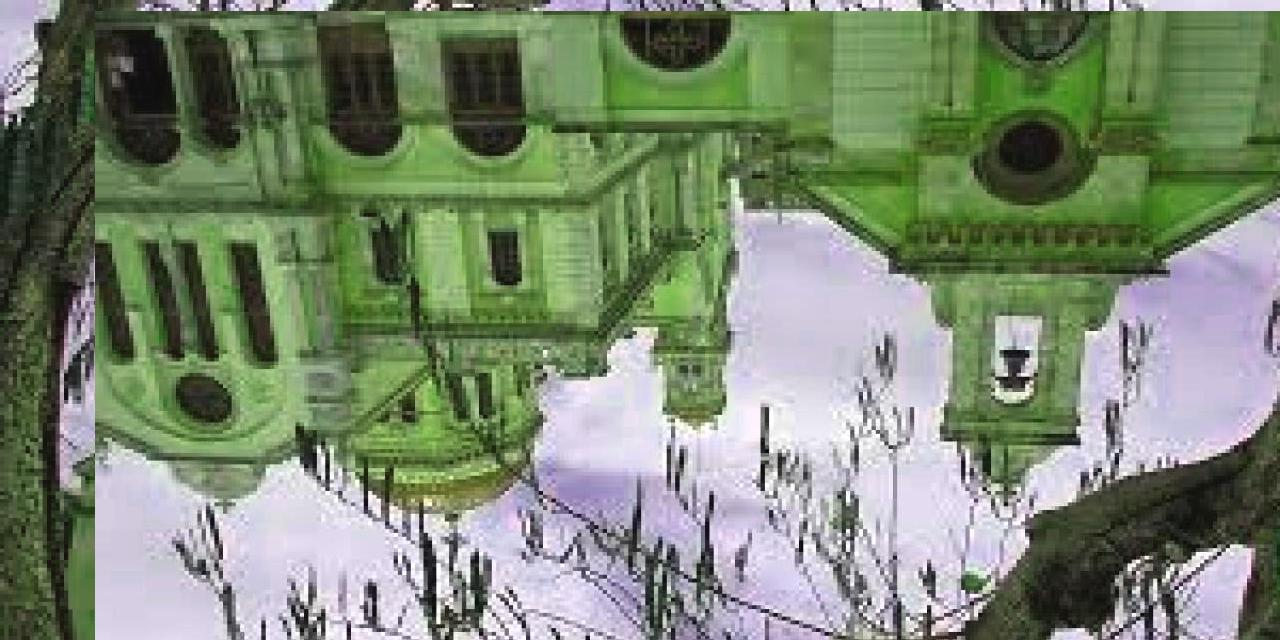Agios Minas: (96, 12, 1280, 640)
